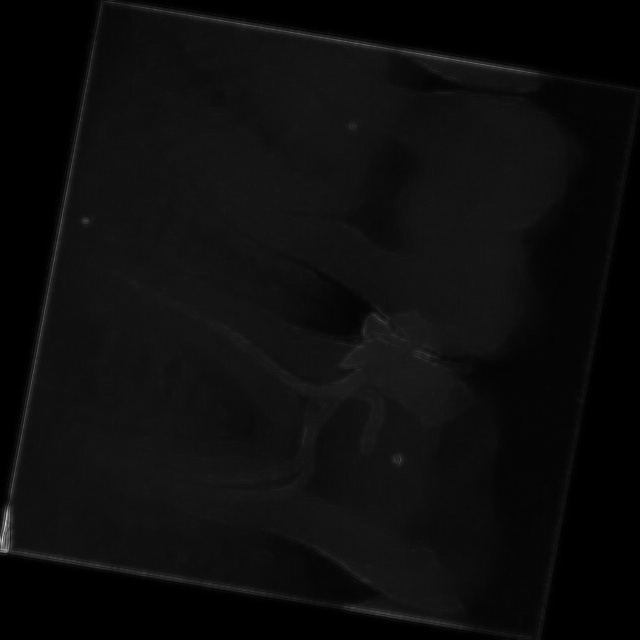Class 2- incomplete endodontic treatment: (21, 243, 542, 624)
